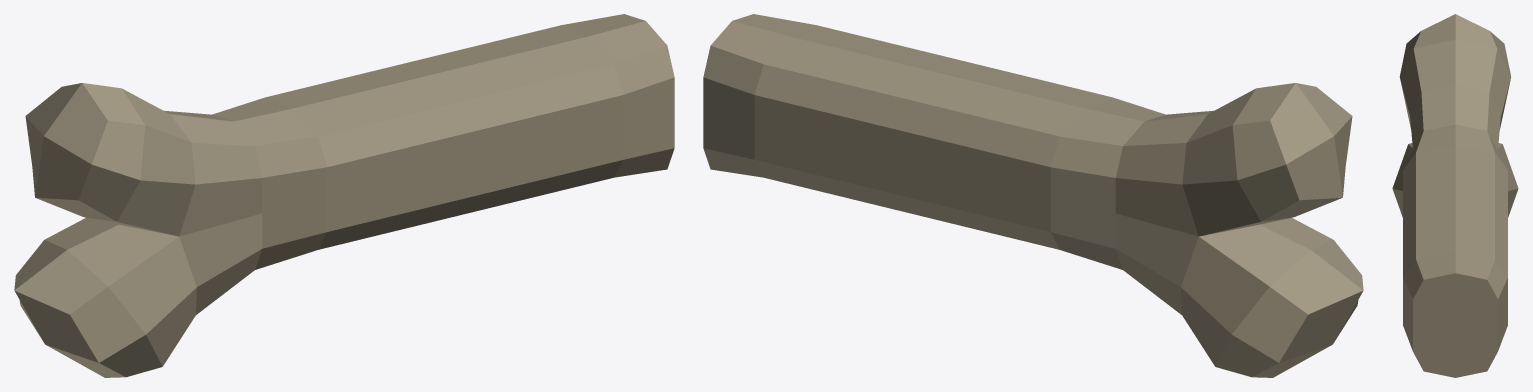
File: HalfBone.fbx
3 views of the same model, side by side, from view 1: azimuth 30°, elevation 25°; view 2: azimuth 150°, elevation 25°; view 3: azimuth 270°, elevation 25° (orthographic). The views are drawn at different scales.
Visible parts, largest first — view 1: Bone; view 2: Bone; view 3: Bone.
Boxes of the visible parts, box(x1,y1,x2,y2) form: Bone: box(14, 14, 674, 377); Bone: box(703, 14, 1363, 377); Bone: box(1392, 14, 1518, 377).
Bounding box in the file's own units: 75.55 × 34.37 × 17.68.
